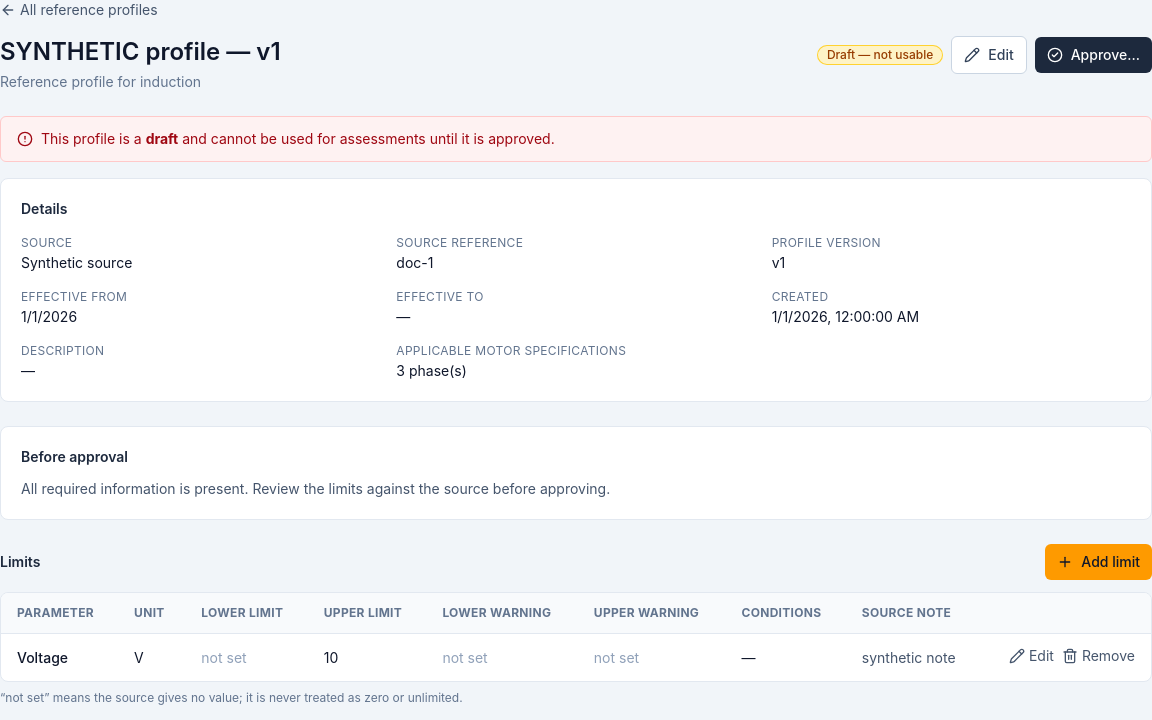
ReferenceDetailPage lifecycle controls › draft: shows the database rejection inside the approval dialog
Click the button "Approve…" at (1093, 55), box [1035,37,1151,73]
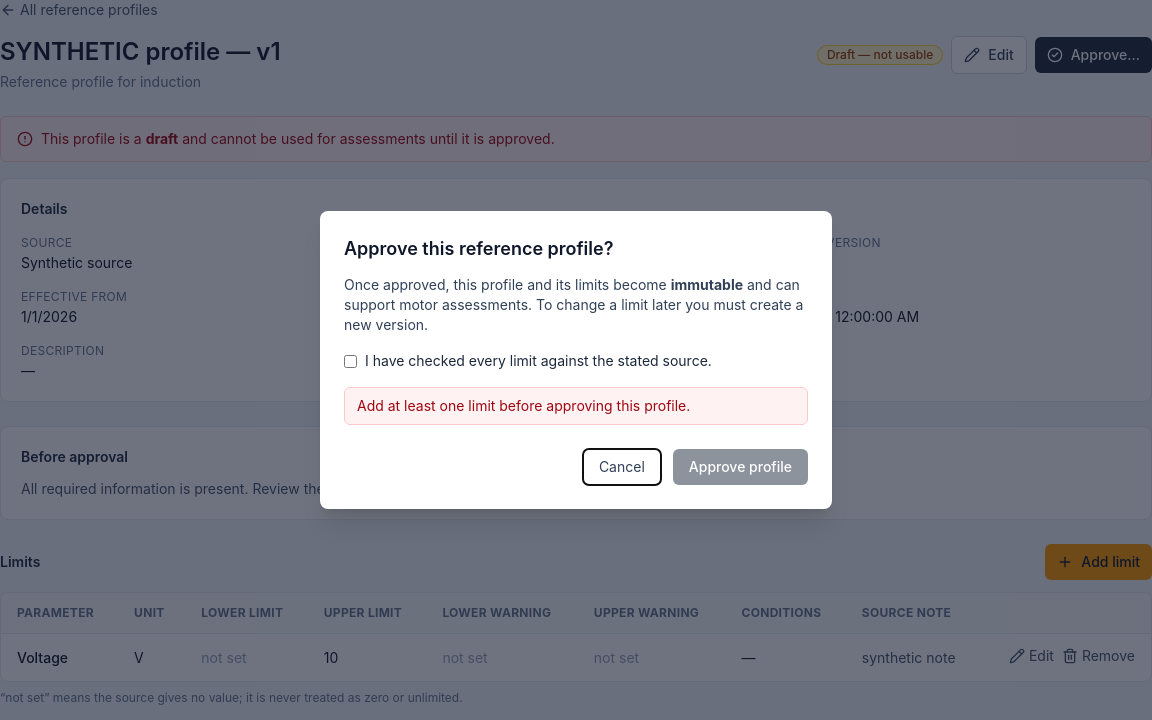
expect the message shows "at least one limit": met, box [357,397,690,414]
